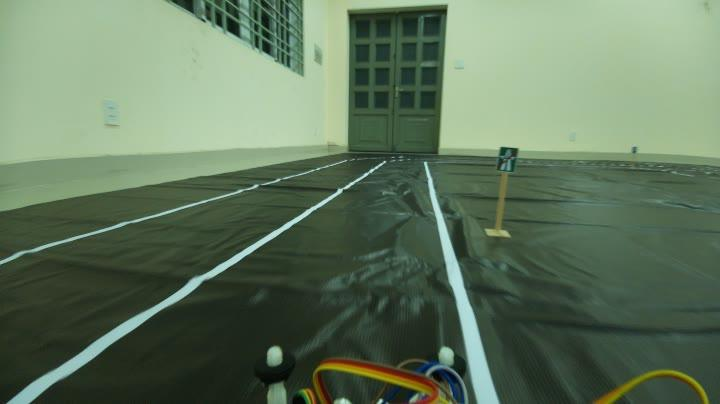highway_exit: (492, 142, 522, 182)
